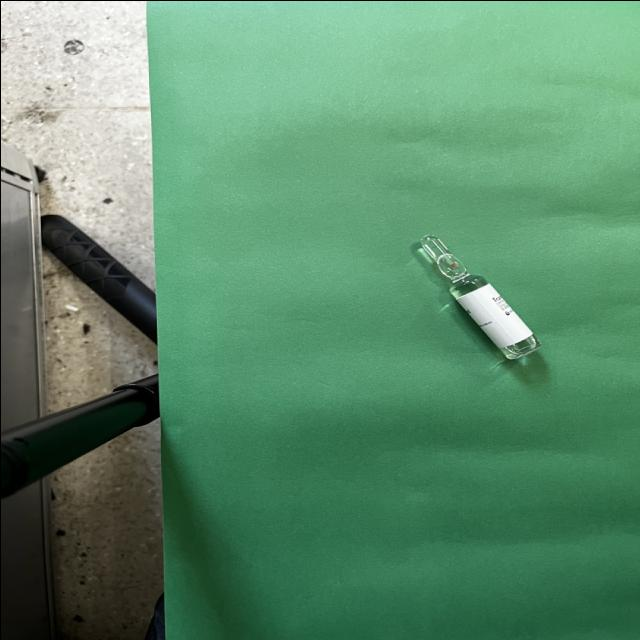Ampoules: (415, 234, 539, 358)
